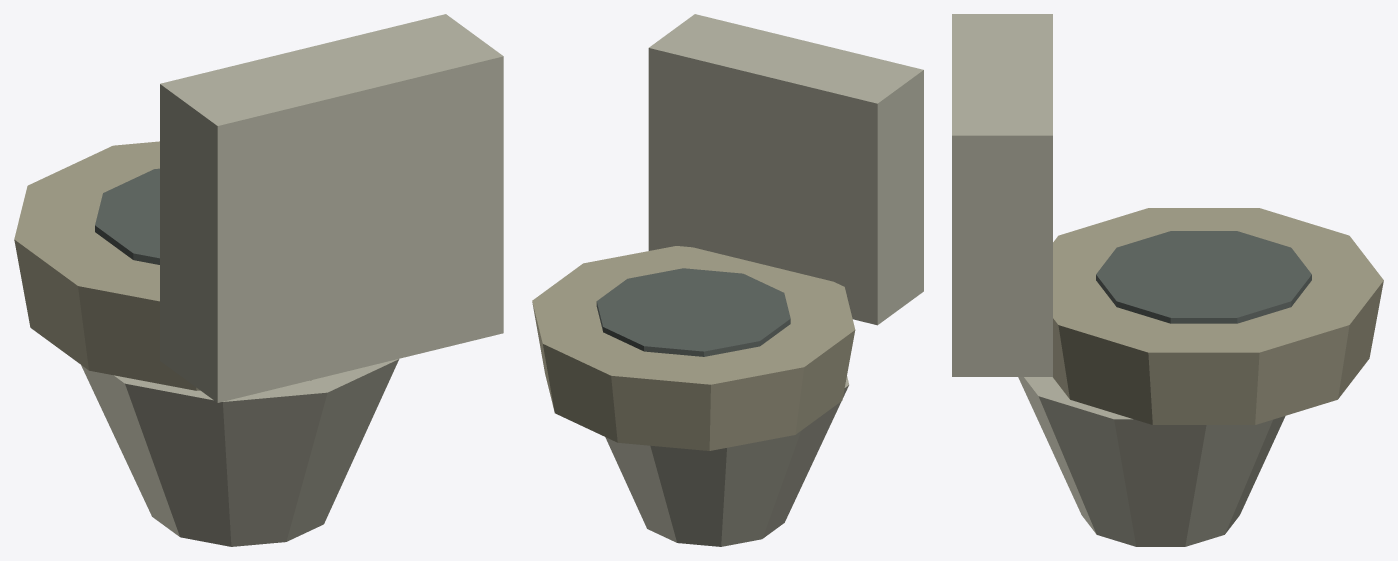
Rendered from toilet.glb.
3 renders of one model, left to right at view 1: azimuth 30°, elevation 25°; view 2: azimuth 150°, elevation 25°; view 3: azimuth 270°, elevation 25°, orthographic. The views are drawn at different scales.
Parts seen in each view (by area): view 1: toilet; view 2: toilet; view 3: toilet.
Part boxes in pixels (<box>): toilet: <box>14,14,503,546</box>; toilet: <box>532,14,923,546</box>; toilet: <box>952,14,1383,546</box>.
Size of the model in its own units: 0.4755 by 0.675 by 0.6.
